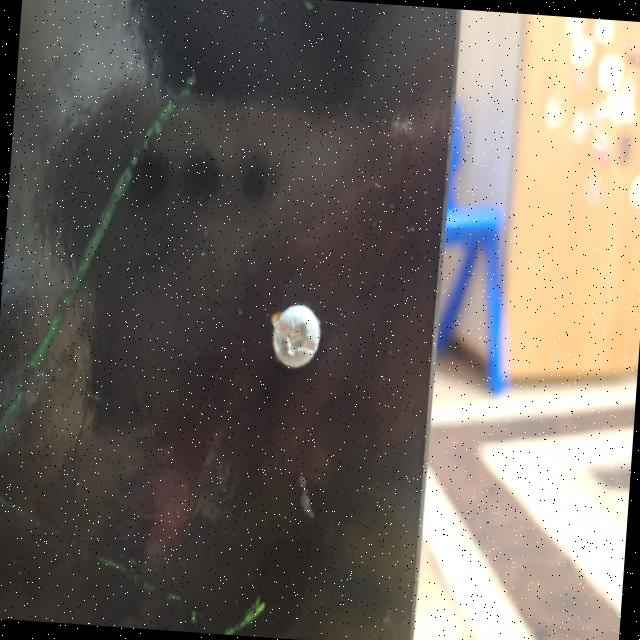Pozidriv: (268, 304, 325, 376)
